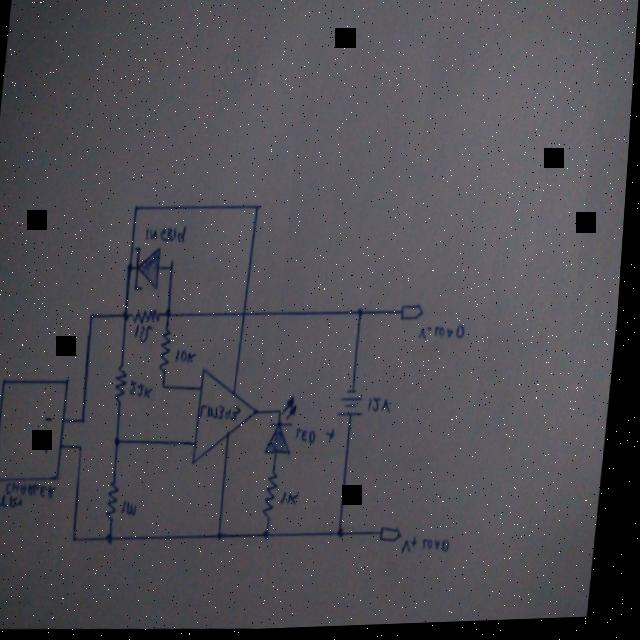crossover: (244, 311, 253, 321)
diode: (269, 396, 306, 458), (133, 245, 167, 294)
junction: (110, 533, 125, 549), (358, 307, 372, 323), (342, 529, 354, 543), (128, 262, 139, 276), (268, 530, 279, 544), (117, 437, 129, 449), (167, 308, 178, 321), (221, 531, 232, 544), (124, 312, 135, 324), (81, 443, 92, 455), (169, 264, 179, 275), (83, 416, 93, 426), (255, 204, 264, 215), (165, 382, 173, 394), (77, 535, 86, 545), (135, 205, 143, 215), (92, 313, 100, 323), (282, 408, 288, 418)
resistor: (268, 472, 287, 524), (111, 480, 128, 523), (163, 326, 177, 376), (118, 364, 134, 406), (134, 307, 166, 326)
source: (0, 372, 78, 489), (341, 388, 372, 422)
terminal: (385, 528, 411, 548), (403, 306, 429, 325)
text: (421, 322, 472, 348), (407, 535, 459, 560), (11, 480, 64, 499), (146, 224, 191, 245), (203, 406, 248, 424), (0, 492, 30, 518), (133, 379, 161, 402), (370, 398, 398, 418), (299, 427, 323, 448), (136, 325, 158, 347), (178, 349, 202, 366), (126, 499, 146, 519), (285, 492, 307, 509)
